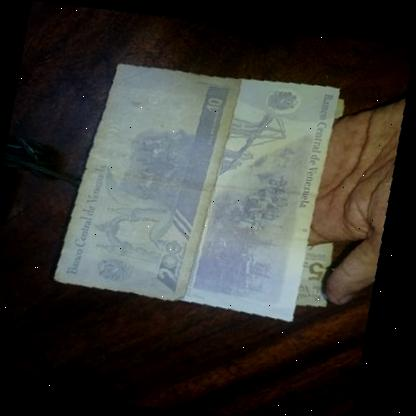vef_back: (165, 59, 359, 323), (57, 53, 241, 306)
vef_front: (277, 84, 380, 308)
